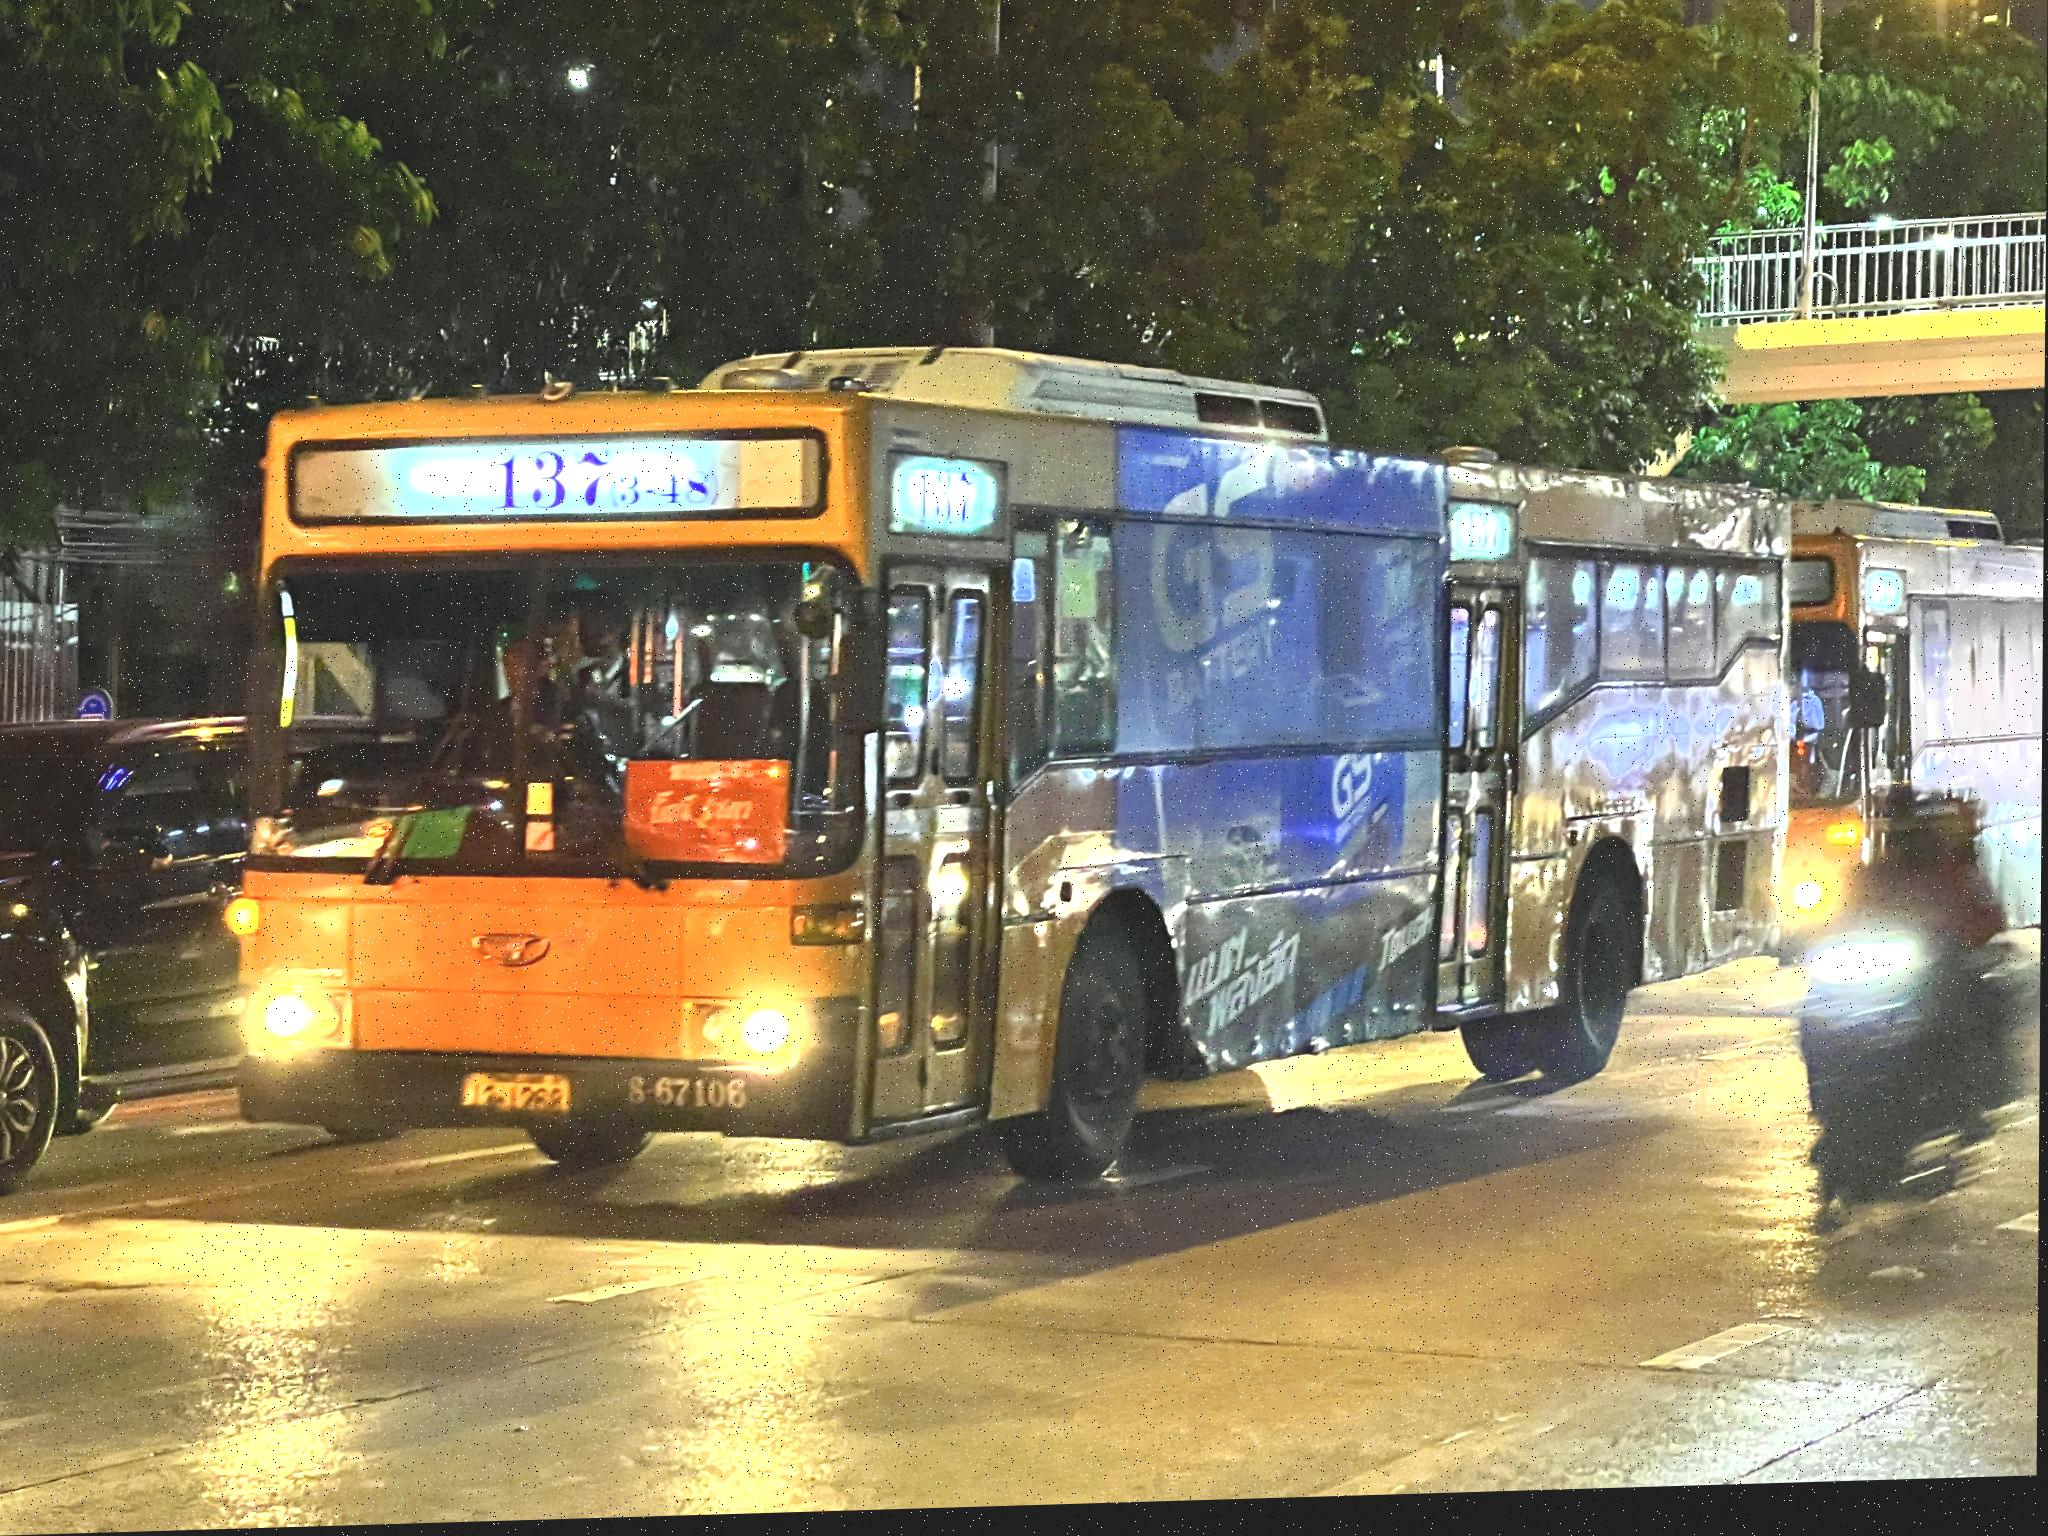BMTA-bus: (227, 355, 1800, 1200)
Bus Line Number: (484, 436, 735, 523)
Bus Side Number: (613, 1070, 761, 1125)
Destination Sign: (622, 758, 797, 876)
